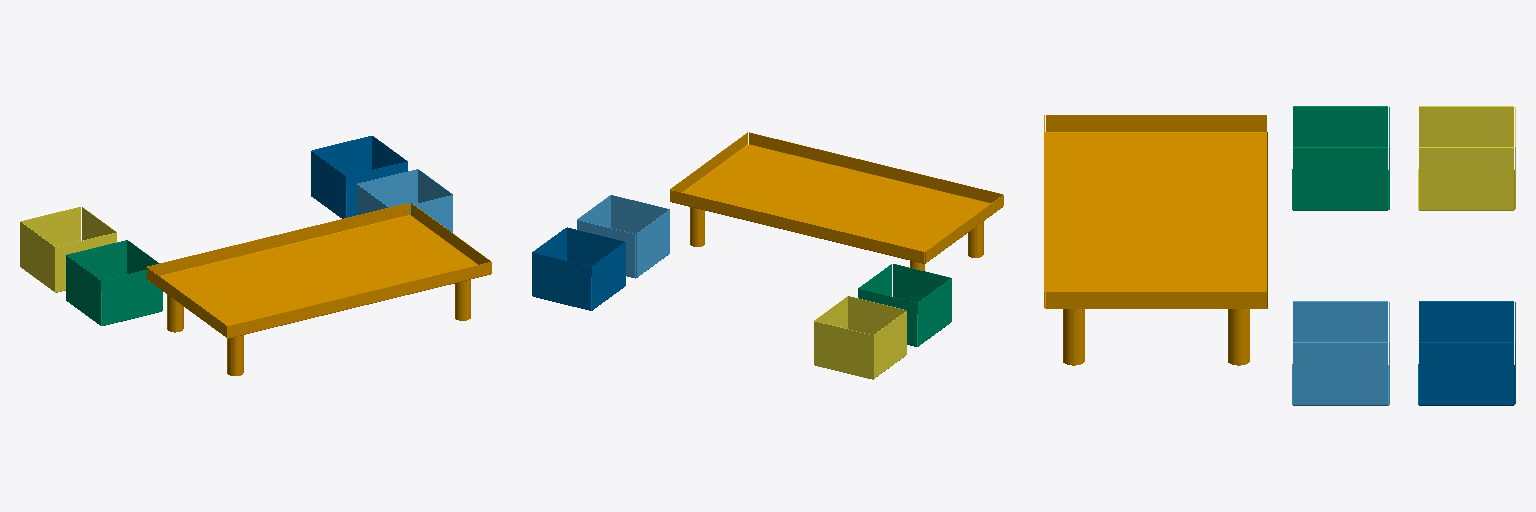
robot.urdf — table:
<?xml version="1.0" ?>
<robot name="table">

<link name="base_link">
  <inertial>
    <origin xyz="-0.04188068176084348 -0.883911049031494 0.1746331227053194" rpy="0 0 0"/>
    <mass value="68.91045327965294"/>
    <inertia ixx="5.939428" iyy="23.222446" izz="28.133865" ixy="-0.0" iyz="-0.0" ixz="-0.0"/>
  </inertial>
  <visual>
    <origin xyz="0 0 0" rpy="0 0 0"/>
    <geometry>
      <mesh filename="meshes/table.stl" scale="0.001 0.001 0.001"/>
    </geometry>
    <material name="wooden">
    <color rgba="0.820, 0.760, 0.650, 1.0"/>
    </material>
  </visual>
  <collision>
    <origin xyz="-0.04 -0.885 .109" rpy="0 0 0"/>
     <geometry>
      <box size=" 1.5 0.8 .265 "/>    
    </geometry>
  </collision>
</link>
<link name="b1">
  <inertial>
    <origin xyz="0.8271161069545363 -0.2249999999999995 0.09346657638643491" rpy="0 0 0"/>
    <mass value="8.99308242151223"/>
    <inertia ixx="0.217037" iyy="0.217037" izz="0.311973" ixy="0.0" iyz="-0.0" ixz="0.0"/>
  </inertial>
  <visual>
    <origin xyz="0 0 0" rpy="0 0 0"/>
    <geometry>
      <mesh filename="meshes/b1.stl" scale="0.001 0.001 0.001"/>
    </geometry>
     <material name="woode">
    <color rgba="0.780, 0.900, 0.850, 1.0"/>
    </material>
  </visual>
  <collision>
    <origin xyz="0.83 -0.06 0.125" rpy="0 0 0"/>
    <geometry>
      <box size="0.35 0.021 0.25"/>    
    </geometry>
  </collision>
    <collision>
    <origin xyz="0.83 -0.39 0.125" rpy="0 0 0"/>
    <geometry>
      <box size="0.35 0.021 0.25"/>    
    </geometry>
  </collision>
    <collision>
    <origin xyz="1.0 -0.225 0.125" rpy="0 0 0"/>
    <geometry>
      <box size="0.021 0.35 0.25"/>    
    </geometry>
  </collision>
    <collision>
    <origin xyz="0.66 -0.225 0.125" rpy="0 0 0"/>
    <geometry>
      <box size="0.021 0.35 0.25"/>    
    </geometry>
  </collision>
  
    <collision>
    <origin xyz="0.82 -0.225 0.01" rpy="0 0 0"/>
    <geometry>
      <box size=" 0.33 0.35 0.021 "/>    
    </geometry>
  </collision>
  
</link>
<link name="b2">
  <inertial>
    <origin xyz="-0.8228838930454637 -0.2249999999999995 0.09346657638643491" rpy="0 0 0"/>
    <mass value="8.99308242151223"/>
    <inertia ixx="0.217037" iyy="0.217037" izz="0.311973" ixy="0.0" iyz="-0.0" ixz="0.0"/>
  </inertial>
  <visual>
    <origin xyz="0 0 0" rpy="0 0 0"/>
    <geometry>
      <mesh filename="meshes/b2.stl" scale="0.001 0.001 0.001"/>
    </geometry>
       <material name="woode">
    <color rgba="0.780, 0.900, 0.850, 1.0"/>
    </material>
  </visual>
   <collision>
    <origin xyz="-0.83 -0.06 0.125" rpy="0 0 0"/>
    <geometry>
      <box size="0.35 0.021 0.25"/>    
    </geometry>
  </collision>
    <collision>
    <origin xyz="-0.83 -0.39 0.125" rpy="0 0 0"/>
    <geometry>
      <box size="0.35 0.021 0.25"/>    
    </geometry>
  </collision>
    <collision>
    <origin xyz="-1.0 -0.225 0.125" rpy="0 0 0"/>
    <geometry>
      <box size="0.021 0.35 0.25"/>    
    </geometry>
  </collision>
    <collision>
    <origin xyz="-0.66 -0.225 0.125" rpy="0 0 0"/>
    <geometry>
      <box size="0.021 0.35 0.25"/>    
    </geometry>
  </collision>
  
    <collision>
    <origin xyz="-0.82 -0.225 0.01" rpy="0 0 0"/>
    <geometry>
      <box size=" 0.33 0.35 0.021 "/>    
    </geometry>
  </collision>
</link>
<link name="b3">
  <inertial>
    <origin xyz="-0.8228838930454637 0.2250000000000005 0.09346657638643491" rpy="0 0 0"/>
    <mass value="8.99308242151223"/>
    <inertia ixx="0.217037" iyy="0.217037" izz="0.311973" ixy="0.0" iyz="-0.0" ixz="0.0"/>
  </inertial>
  <visual>
    <origin xyz="0 0 0" rpy="0 0 0"/>
    <geometry>
      <mesh filename="meshes/b3.stl" scale="0.001 0.001 0.001"/>
    </geometry>
       <material name="woode">
    <color rgba="0.780, 0.900, 0.850, 1.0"/>
    </material>
  </visual>
  <collision>
    <origin xyz="-0.83 0.06 0.125" rpy="0 0 0"/>
    <geometry>
      <box size="0.35 0.021 0.25"/>    
    </geometry>
  </collision>
    <collision>
    <origin xyz="-0.83 0.39 0.125" rpy="0 0 0"/>
    <geometry>
      <box size="0.35 0.021 0.25"/>    
    </geometry>
  </collision>
    <collision>
    <origin xyz="-1.0 0.225 0.125" rpy="0 0 0"/>
    <geometry>
      <box size="0.021 0.35 0.25"/>    
    </geometry>
  </collision>
    <collision>
    <origin xyz="-0.66 0.225 0.125" rpy="0 0 0"/>
    <geometry>
      <box size="0.021 0.35 0.25"/>    
    </geometry>
  </collision>
  
    <collision>
    <origin xyz="-0.82 0.225 0.01" rpy="0 0 0"/>
    <geometry>
      <box size=" 0.33 0.35 0.021 "/>    
    </geometry>
  </collision>
</link>
<link name="b4">
  <inertial>
    <origin xyz="0.8271161069545363 0.2250000000000005 0.09346657638643491" rpy="0 0 0"/>
    <mass value="8.99308242151223"/>
    <inertia ixx="0.217037" iyy="0.217037" izz="0.311973" ixy="0.0" iyz="-0.0" ixz="0.0"/>
  </inertial>
  <visual>
    <origin xyz="0 0 0" rpy="0 0 0"/>
    <geometry>
      <mesh filename="meshes/b4.stl" scale="0.001 0.001 0.001"/>
    </geometry>
       <material name="woode">
    <color rgba="0.780, 0.900, 0.850, 1.0"/>
    </material>
  </visual>
  <collision>
    <origin xyz="0.83 0.06 0.125" rpy="0 0 0"/>
    <geometry>
      <box size="0.35 0.021 0.25"/>    
    </geometry>
  </collision>
    <collision>
    <origin xyz="0.83 0.39 0.125" rpy="0 0 0"/>
    <geometry>
      <box size="0.35 0.021 0.25"/>    
    </geometry>
  </collision>
    <collision>
    <origin xyz="1.0 0.225 0.125" rpy="0 0 0"/>
    <geometry>
      <box size="0.021 0.35 0.25"/>    
    </geometry>
  </collision>
    <collision>
    <origin xyz="0.66 0.225 0.125" rpy="0 0 0"/>
    <geometry>
      <box size="0.021 0.35 0.25"/>    
    </geometry>
  </collision>
  
    <collision>
    <origin xyz="0.82 0.225 0.01" rpy="0 0 0"/>
    <geometry>
      <box size=" 0.33 0.35 0.021 "/>    
    </geometry>
  </collision>
</link>

<joint name="joint_b1" type="fixed">
  <parent link="base_link"/>
  <child link="b1"/>
  <origin xyz="0 0 0" rpy="0 0 0"/>
</joint>

<joint name="joint_b2" type="fixed">
  <parent link="base_link"/>
  <child link="b2"/>
  <origin xyz="0 0 0" rpy="0 0 0"/>
</joint>

<joint name="joint_b3" type="fixed">
  <parent link="base_link"/>
  <child link="b3"/>
  <origin xyz="0 0 0" rpy="0 0 0"/>
</joint>

<joint name="joint_b4" type="fixed">
  <parent link="base_link"/>
  <child link="b4"/>
  <origin xyz="0 0 0" rpy="0 0 0"/>
</joint>

</robot>

--- Facts derived from the render (not from the file) ---
Views: 3 orthographic renders of the robot side by side, from view 1: azimuth 30°, elevation 25°; view 2: azimuth 150°, elevation 25°; view 3: azimuth 270°, elevation 25°.
Robot: table — 5 links, 4 joints (4 fixed); root link base_link; default pose: every joint at zero.
Visible links, largest first — view 1: base_link, b2, b3, b4, b1; view 2: base_link, b4, b3, b2, b1; view 3: base_link, b1, b2, b3, b4.
Boxes of the visible links, box(x1,y1,x2,y2) form: base_link: box(147, 203, 491, 375); b2: box(66, 240, 162, 325); b3: box(20, 207, 116, 292); b4: box(311, 136, 407, 218); b1: box(357, 169, 452, 232); base_link: box(670, 132, 1003, 270); b4: box(532, 227, 625, 310); b3: box(814, 296, 906, 379); b2: box(858, 264, 951, 346); b1: box(577, 195, 669, 278); base_link: box(1044, 115, 1267, 365); b1: box(1292, 301, 1389, 405); b2: box(1292, 106, 1389, 210); b3: box(1418, 106, 1515, 210); b4: box(1418, 301, 1515, 405).
Size in the robot's own frame: 2 by 1.68 by 0.32 metres.
Meshes: 5 distinct files referenced, 5 mesh visuals loaded (5 binary STL).